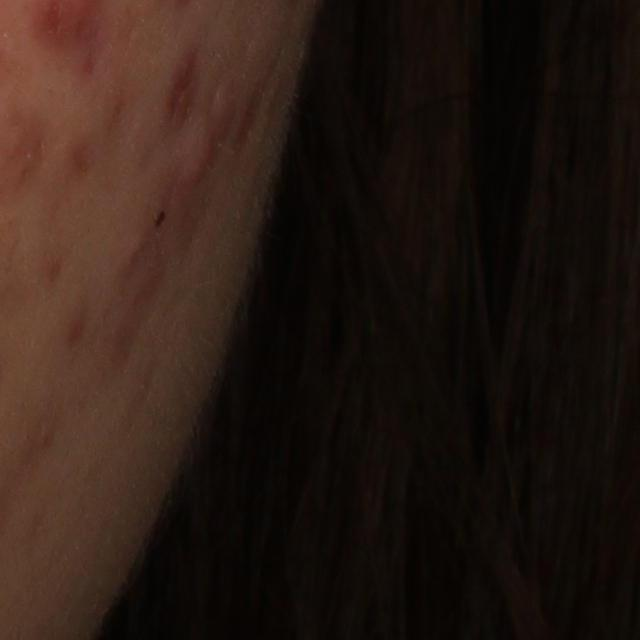nevus: (153, 207, 166, 232)
papule: (177, 124, 226, 187)
